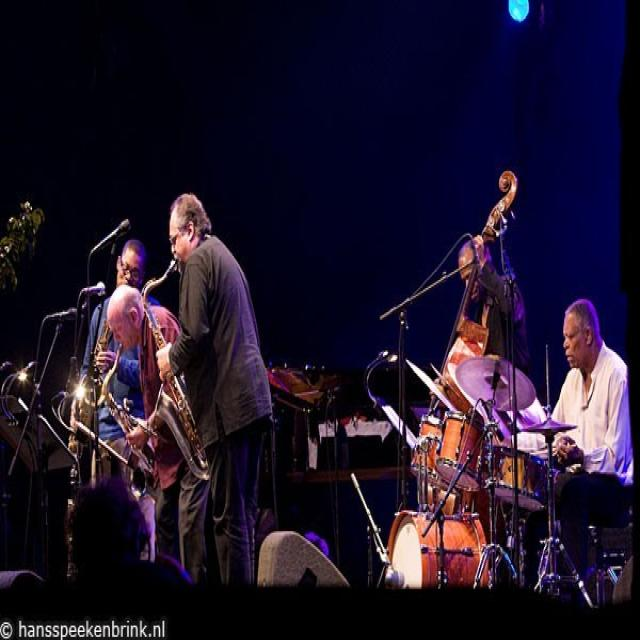drums: (382, 354, 578, 596)
saxophone: (139, 253, 212, 486), (103, 343, 159, 473)
